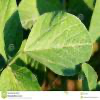Soyabean leaf: (23, 10, 93, 77)
